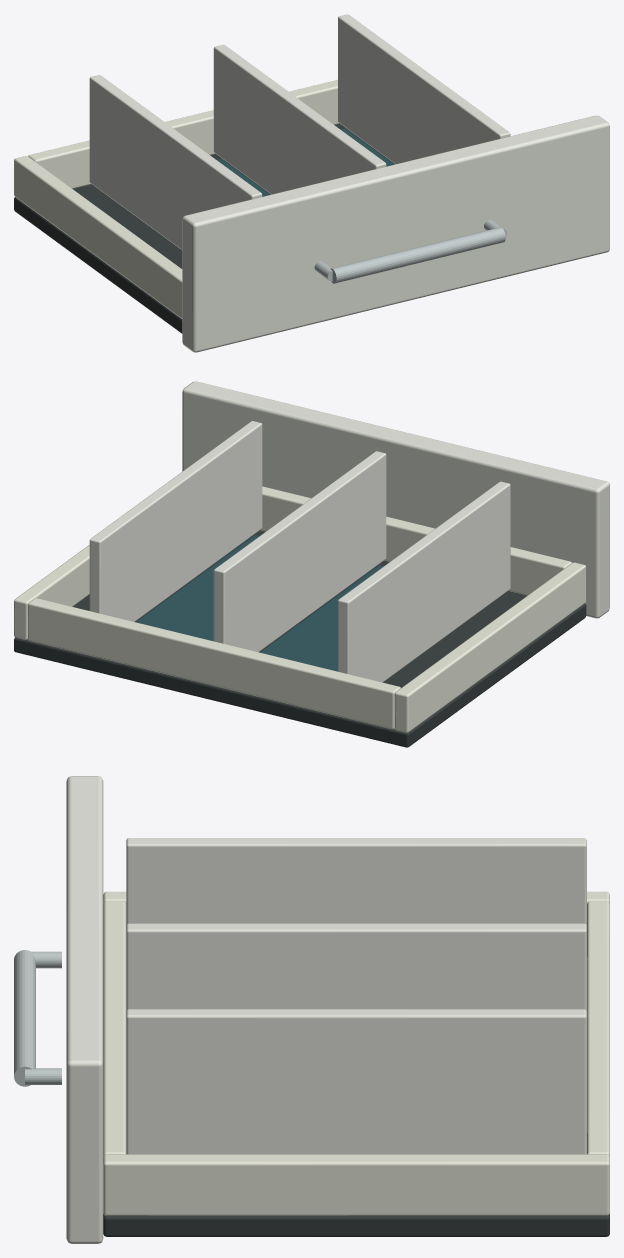
File: generation-ship-hydroponics-generation-ship-hydroponic-231fc214__31502.glb
3 renders of one model, top to bottom at view 1: azimuth 30°, elevation 25°; view 2: azimuth 150°, elevation 25°; view 3: azimuth 270°, elevation 25°, orthographic. The views are drawn at different scales.
Visible parts, largest first — view 1: generation-ship-hydroponics-growth-experiment-drawer; view 2: generation-ship-hydroponics-growth-experiment-drawer; view 3: generation-ship-hydroponics-growth-experiment-drawer.
Part boxes in pixels (x1=…): generation-ship-hydroponics-growth-experiment-drawer: x1=14, y1=14, x2=609, y2=352; generation-ship-hydroponics-growth-experiment-drawer: x1=14, y1=381, x2=609, y2=747; generation-ship-hydroponics-growth-experiment-drawer: x1=14, y1=776, x2=609, y2=1243.
Bounding box in the file's own units: 0.74 × 0.22 × 0.647.
